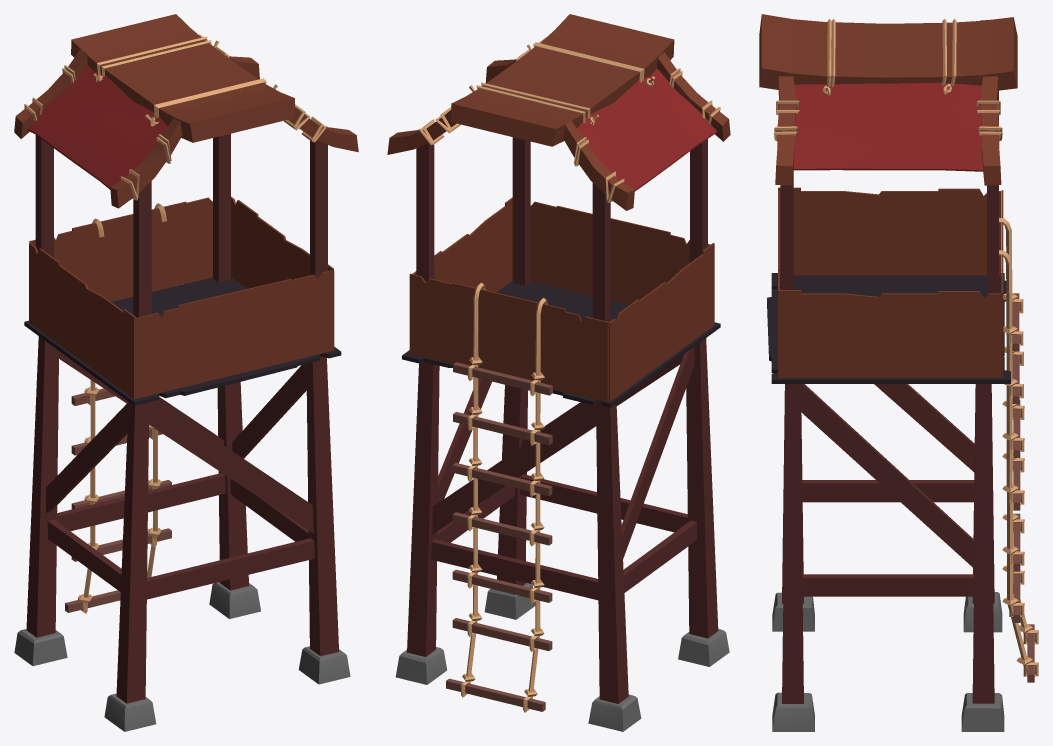
The model's file is watch_tower.fbx.
3 renders of one model, left to right at view 1: azimuth 30°, elevation 25°; view 2: azimuth 150°, elevation 25°; view 3: azimuth 270°, elevation 25°, orthographic. The views are drawn at different scales.
Parts seen in each view (by area): view 1: watch_tower; view 2: watch_tower; view 3: watch_tower.
Boxes of the visible parts, x1=… form: watch_tower: x1=14, y1=14, x2=358, y2=731; watch_tower: x1=387, y1=14, x2=730, y2=731; watch_tower: x1=759, y1=14, x2=1038, y2=731.
Size of the model in its own units: 24.65 by 58.82 by 23.55.
